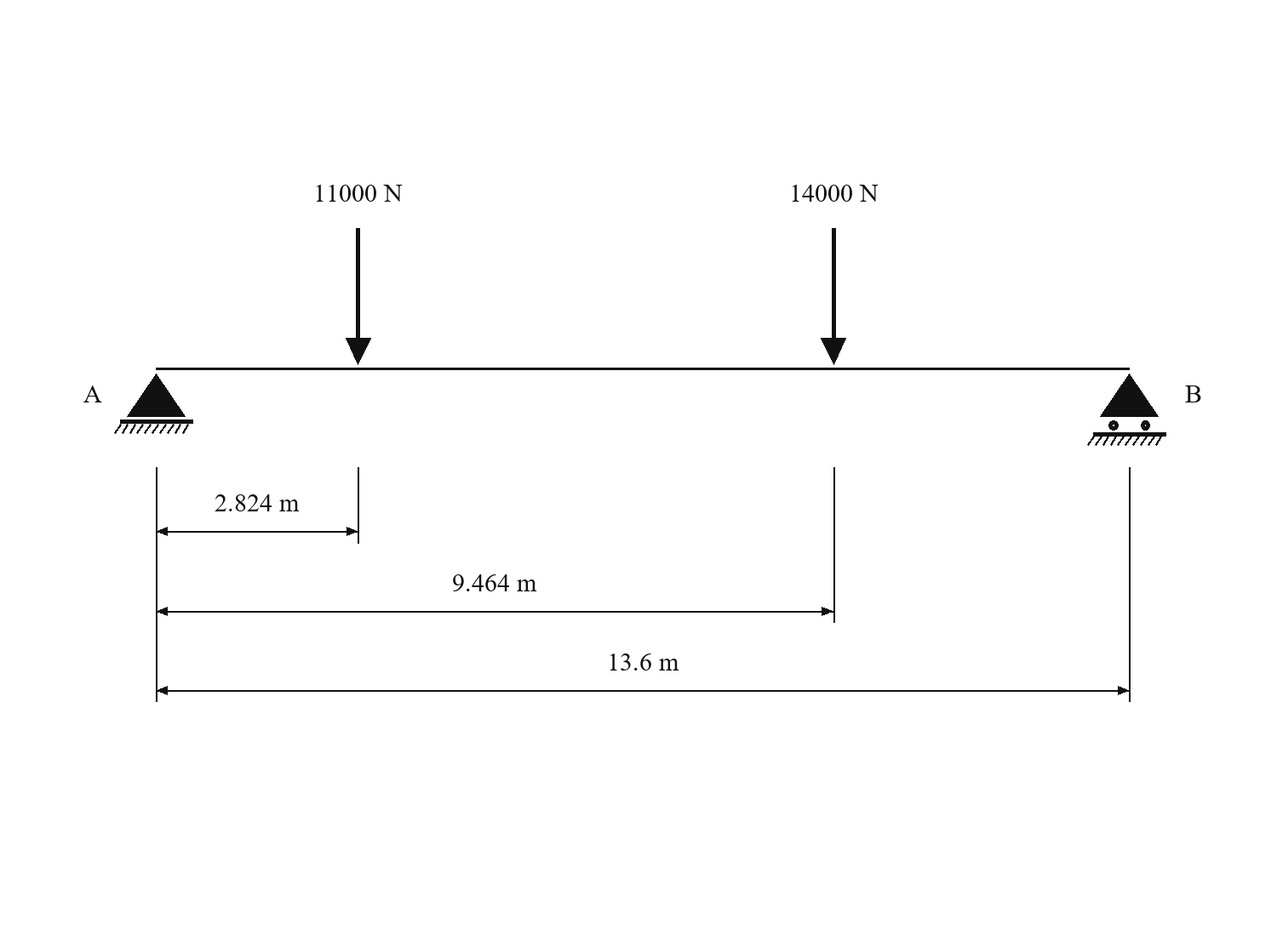pin_support: (114, 374, 193, 434)
point_load: (346, 228, 371, 365), (821, 228, 846, 365)
roller_support: (1087, 374, 1166, 446)
